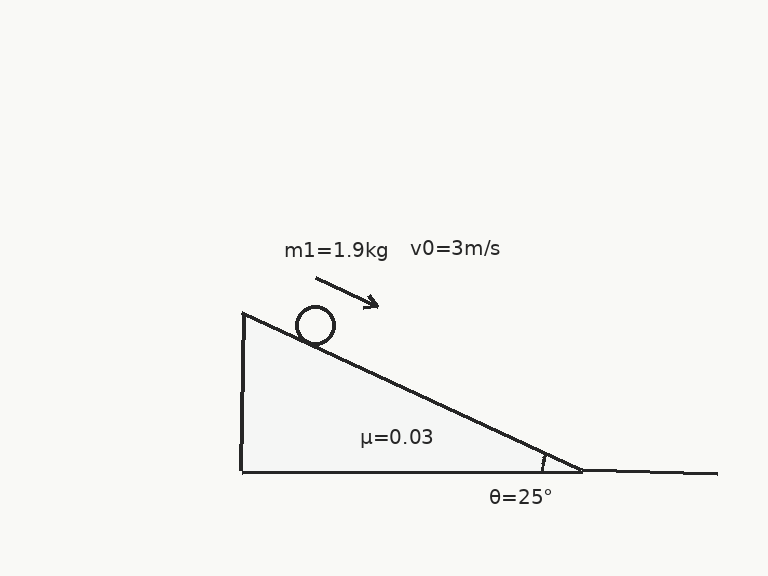ball: (293, 303, 337, 347)
ramp: (240, 311, 584, 473)
